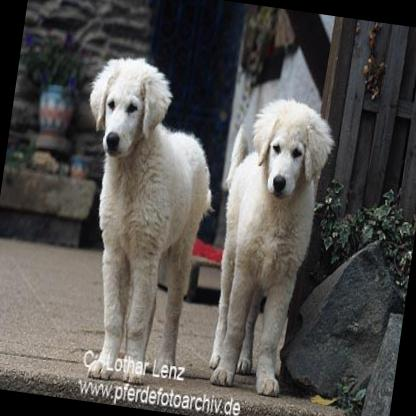kuvasz: (47, 52, 228, 388), (192, 85, 340, 402)
